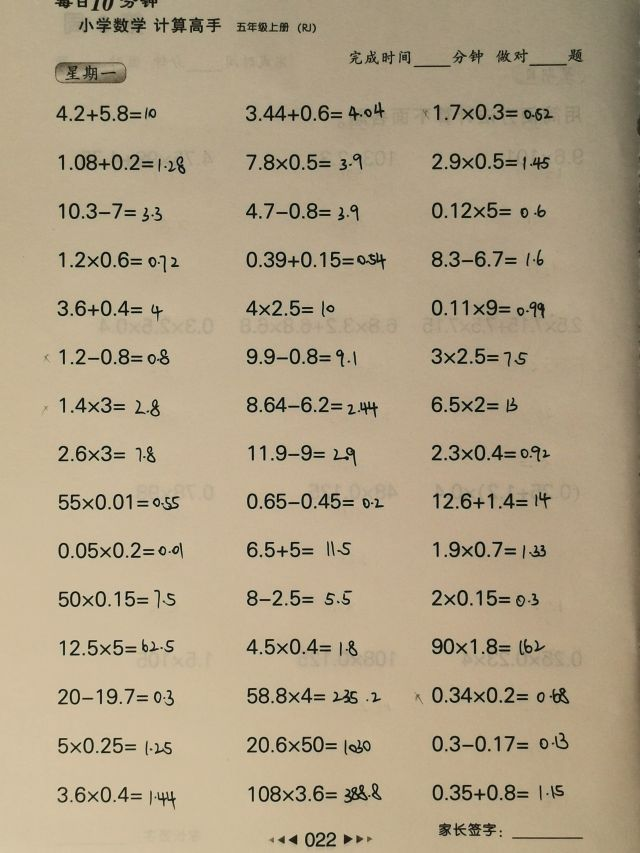equation: (411, 681, 573, 707), (244, 779, 385, 807), (241, 246, 389, 272), (241, 99, 388, 125), (427, 729, 572, 755), (242, 391, 381, 418), (419, 98, 557, 125), (423, 780, 571, 805), (54, 149, 189, 176), (52, 98, 165, 130), (54, 246, 182, 274), (243, 683, 385, 708), (243, 489, 388, 513), (242, 731, 374, 757), (53, 782, 180, 809), (428, 147, 554, 174), (54, 584, 179, 611), (53, 488, 182, 514), (54, 538, 188, 563), (429, 488, 556, 514), (427, 439, 554, 465), (42, 344, 174, 369), (427, 294, 548, 321), (53, 683, 177, 709), (244, 439, 359, 467), (53, 294, 166, 322), (427, 633, 548, 659), (241, 197, 362, 223), (429, 536, 549, 562), (428, 246, 548, 272), (242, 149, 366, 174), (242, 633, 361, 659), (242, 343, 361, 369), (53, 733, 176, 758), (55, 634, 177, 659), (428, 198, 550, 223), (428, 584, 542, 610), (54, 392, 163, 419), (54, 198, 165, 224), (243, 585, 356, 610), (243, 537, 355, 562), (53, 440, 159, 466), (427, 343, 531, 369), (241, 295, 338, 320), (428, 392, 522, 417)
